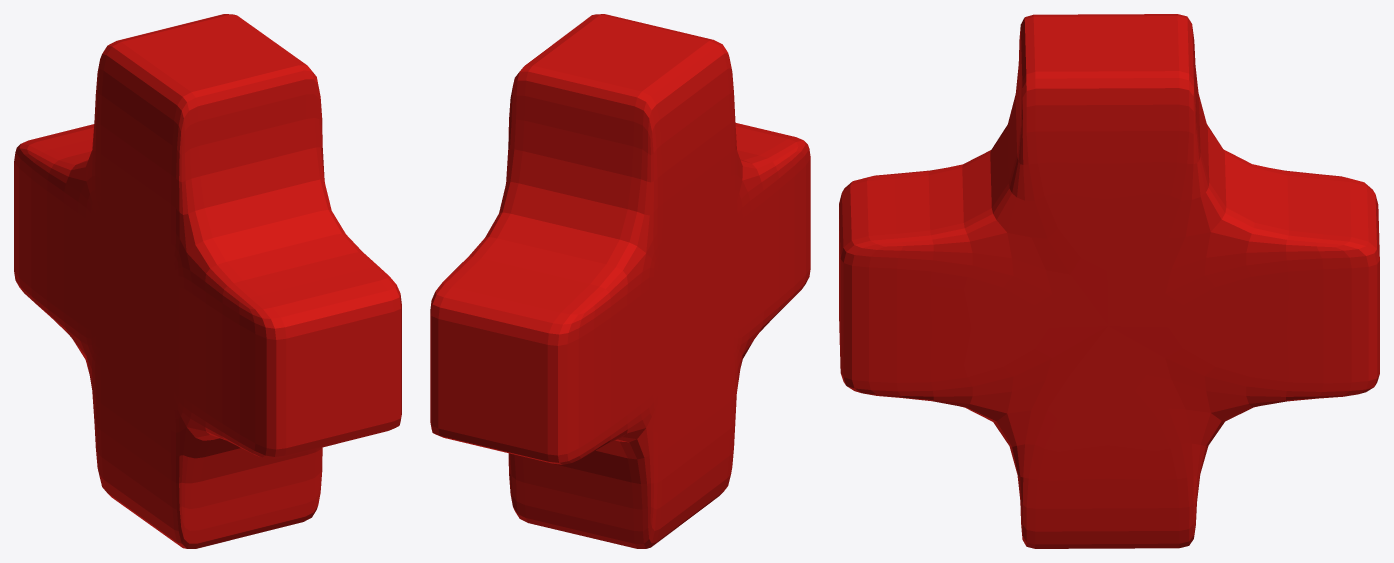
The model's file is red_plus.fbx.
3 views of the same model, side by side, from view 1: azimuth 30°, elevation 25°; view 2: azimuth 150°, elevation 25°; view 3: azimuth 270°, elevation 25° (orthographic). The views are drawn at different scales.
Parts seen in each view (by area): view 1: Cube; view 2: Cube; view 3: Cube.
Part boxes in pixels (x1=…): Cube: x1=14, y1=14, x2=401, y2=548; Cube: x1=430, y1=14, x2=810, y2=548; Cube: x1=839, y1=14, x2=1379, y2=548.
Bounding box in the file's own units: 97.04 × 280 × 289.
